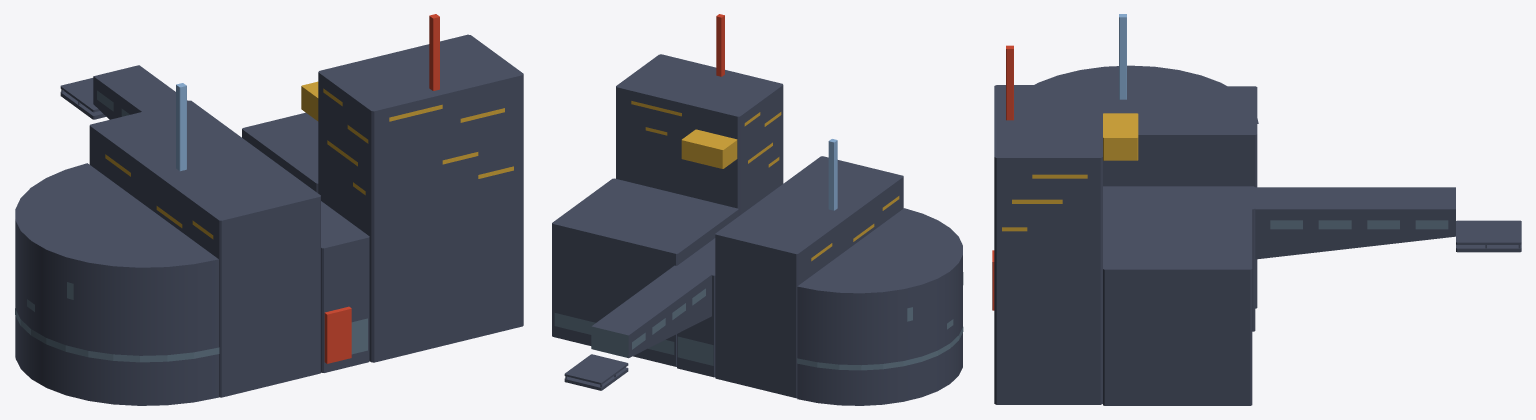
File: msp-guthrie-theater.glb
3 renders of one model, left to right at view 1: azimuth 30°, elevation 25°; view 2: azimuth 150°, elevation 25°; view 3: azimuth 270°, elevation 25°, orthographic. The views are drawn at different scales.
Parts seen in each view (by area): view 1: msp-guthrie-theater; view 2: msp-guthrie-theater; view 3: msp-guthrie-theater.
Boxes of the visible parts, left/top/right/bottom form: msp-guthrie-theater: left=15, top=14, right=523, bottom=405; msp-guthrie-theater: left=552, top=14, right=963, bottom=405; msp-guthrie-theater: left=992, top=14, right=1521, bottom=405.
Size of the model in its own units: 96.08 by 69.6 by 105.
